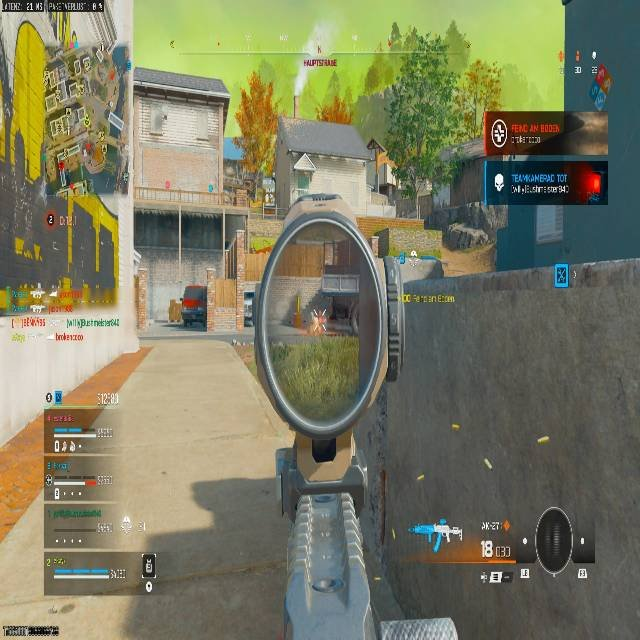player: (585, 53, 610, 114)
